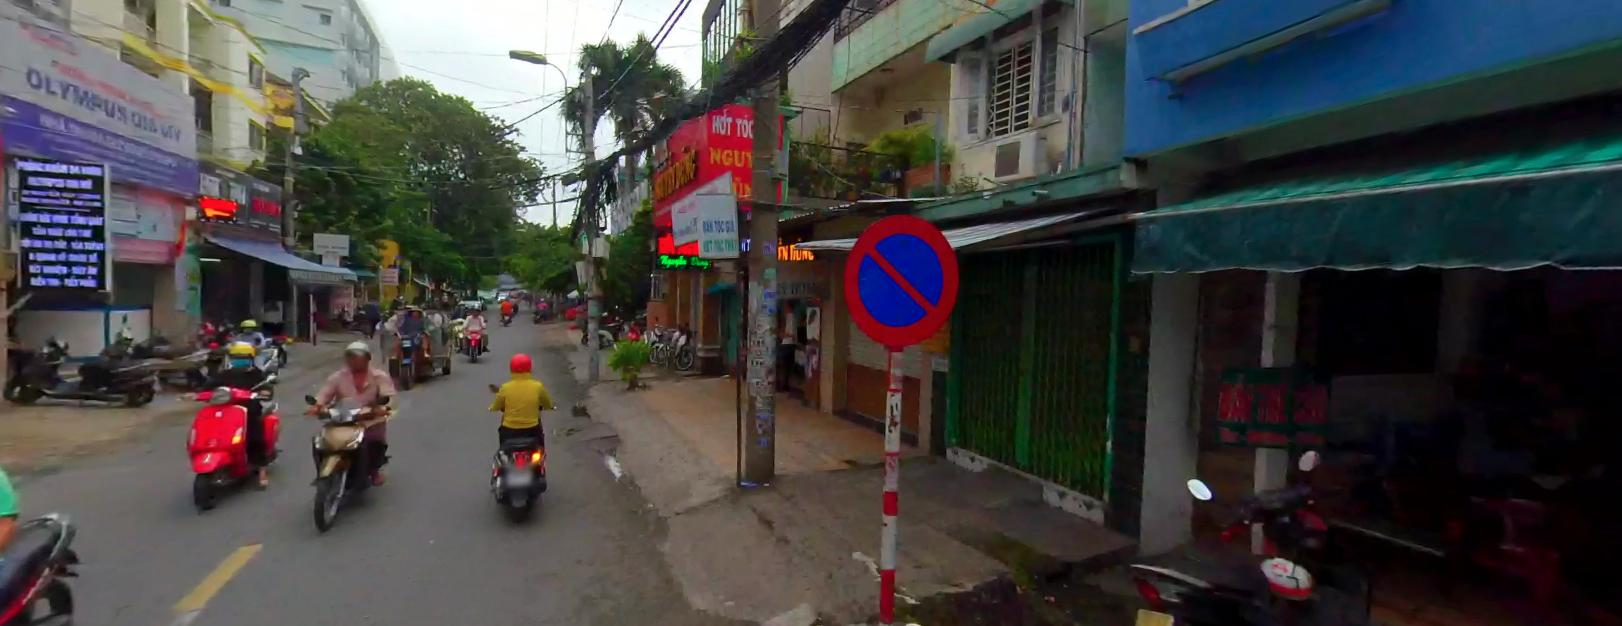Cam dung va do: (841, 214, 957, 342)
